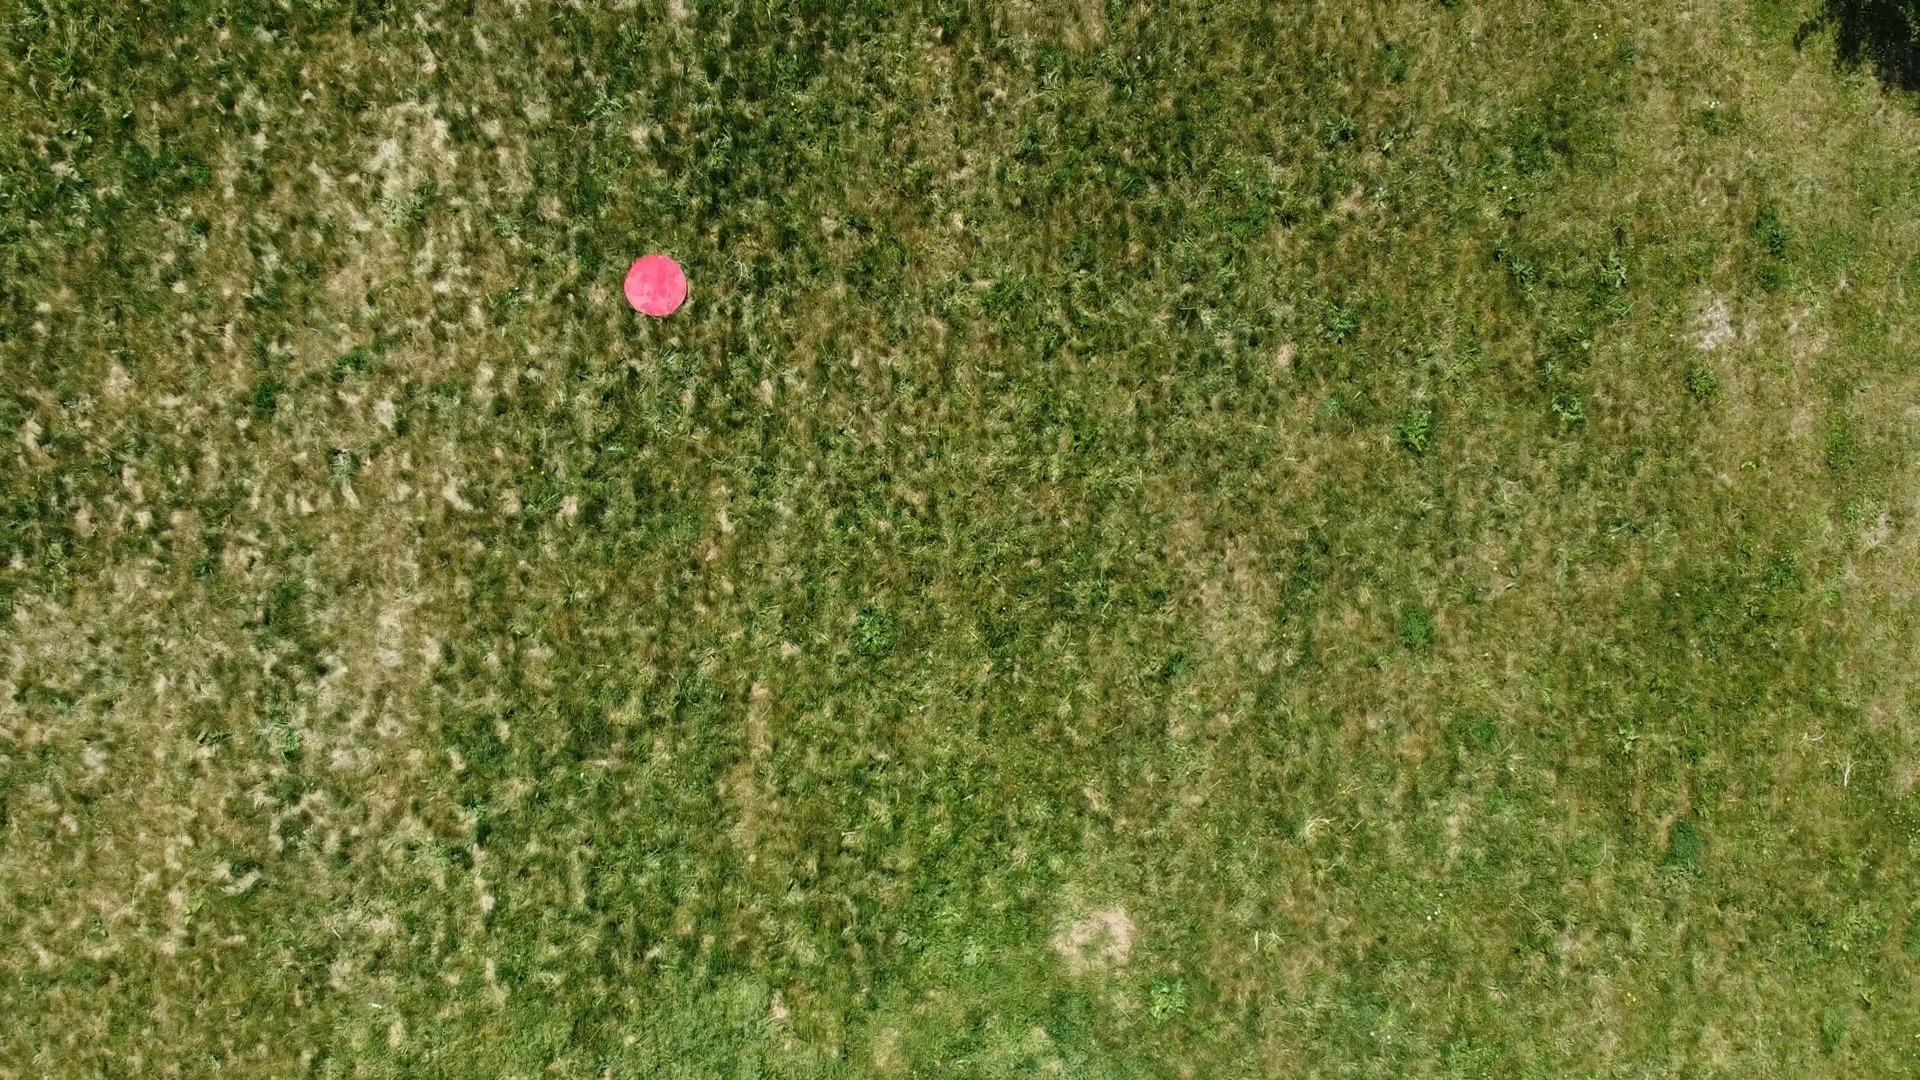Red: (622, 253, 691, 318)
